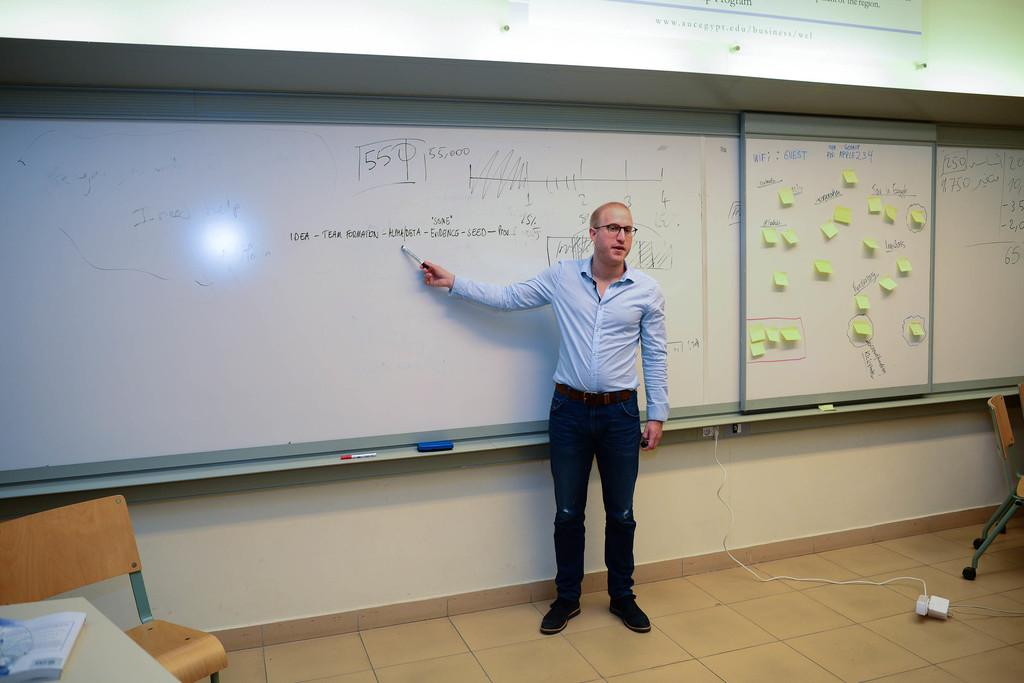Chair: (0, 493, 228, 682), (961, 393, 1023, 580)
